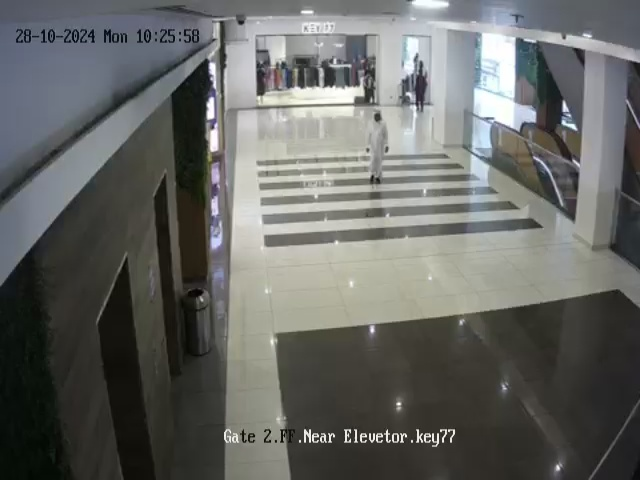male: (366, 111, 389, 184), (414, 72, 428, 112)
